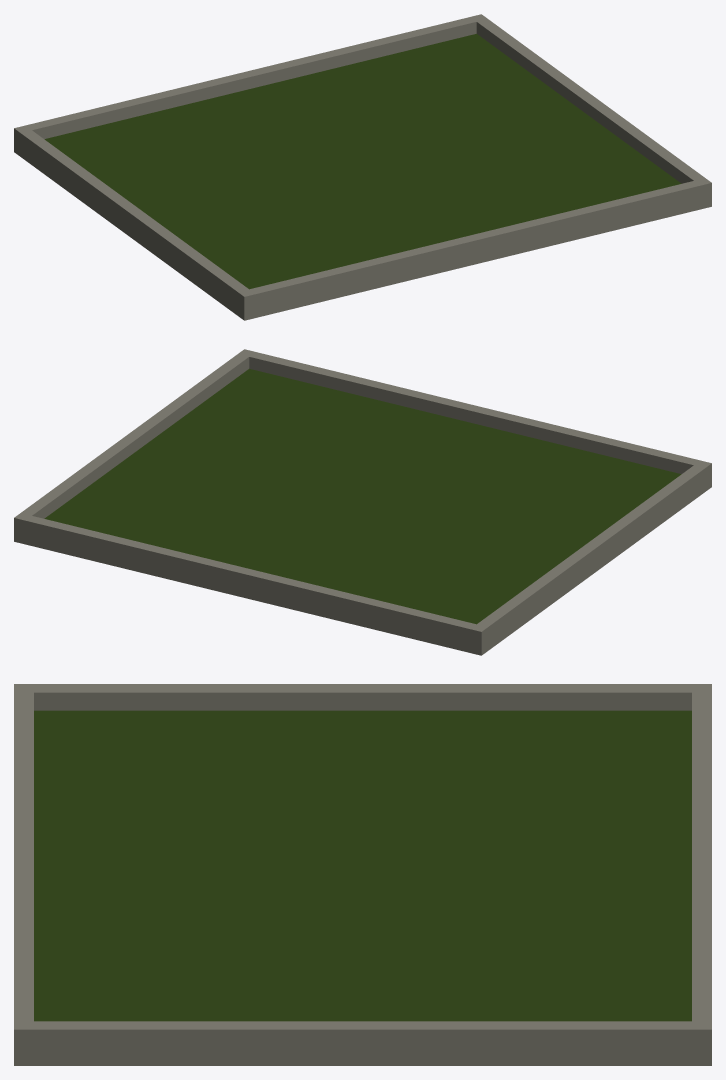
Rendered from garden-bed.glb.
3 views of the same model, one above another, from view 1: azimuth 30°, elevation 25°; view 2: azimuth 150°, elevation 25°; view 3: azimuth 270°, elevation 25° (orthographic). The views are drawn at different scales.
Visible parts, largest first — view 1: garden-bed; view 2: garden-bed; view 3: garden-bed.
Boxes of the visible parts, <box> form: garden-bed: <box>14,14,711,320</box>; garden-bed: <box>14,349,711,655</box>; garden-bed: <box>14,684,711,1065</box>.
Size of the model in its own units: 41 by 2 by 35.
